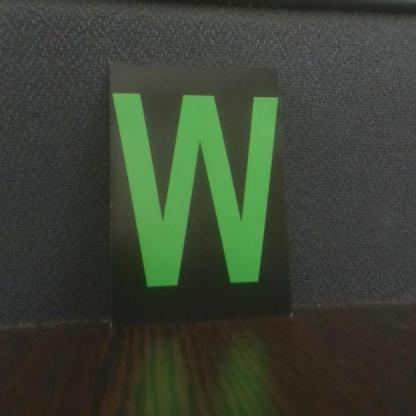w: (110, 63, 291, 318)
